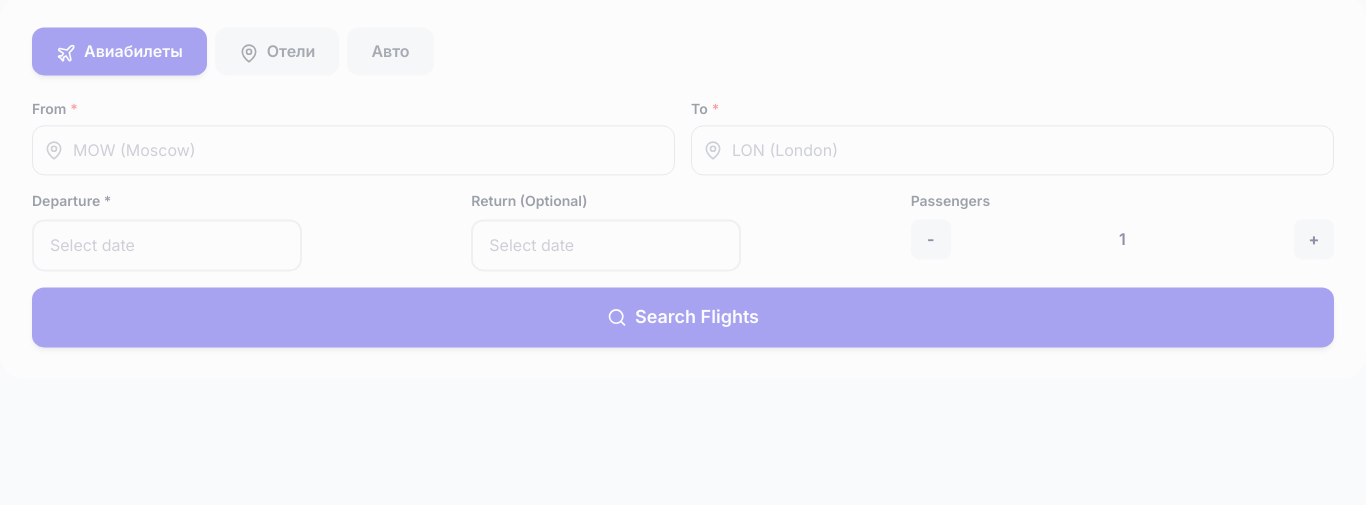
Test: SearchWidget Component › Hotel Search Form › shows error when required hotel fields are empty
Click the tab "Отели" at (277, 51), box [215,27,339,75]
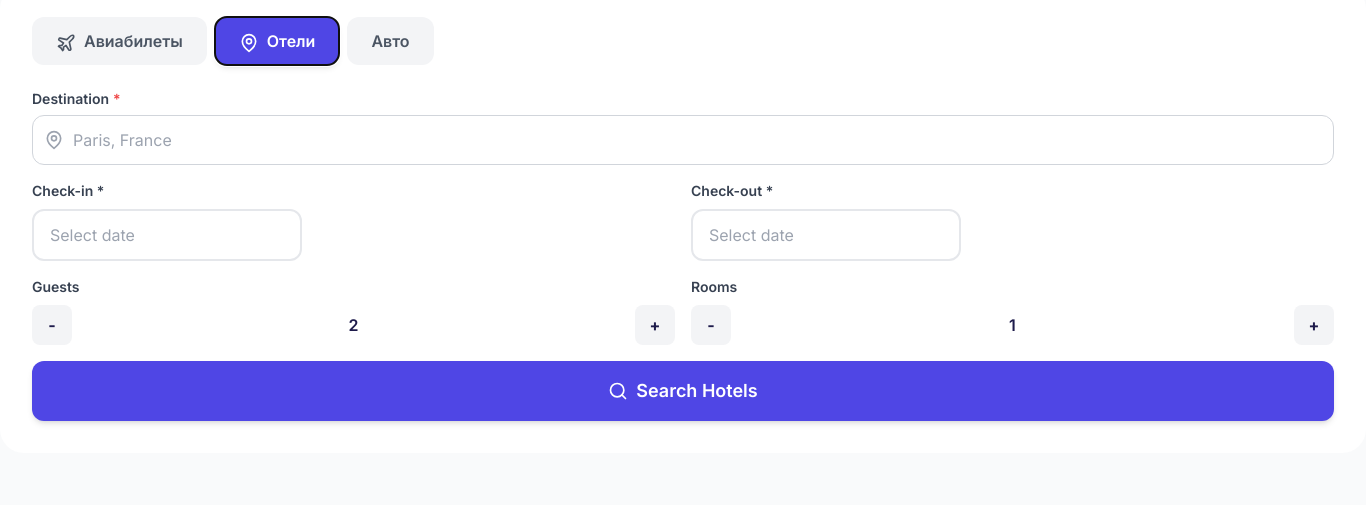
Click the button "Search Hotels" at (683, 391), box [32,361,1334,421]
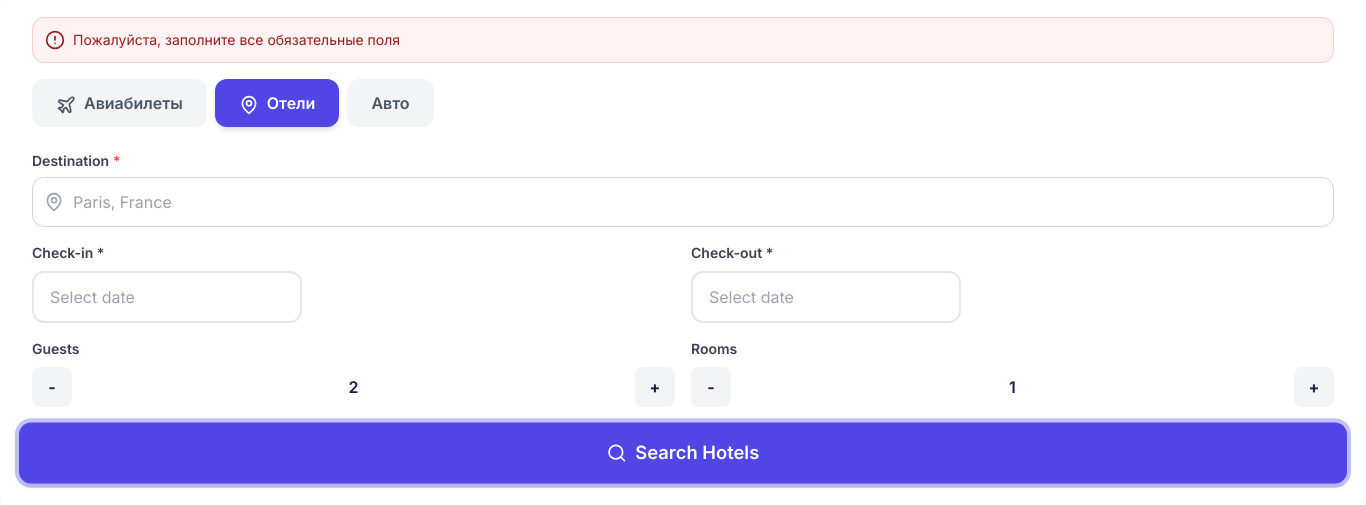
Result: the message "Пожалуйста, заполните все обязательные поля" is shown at [32,17,1334,63]
